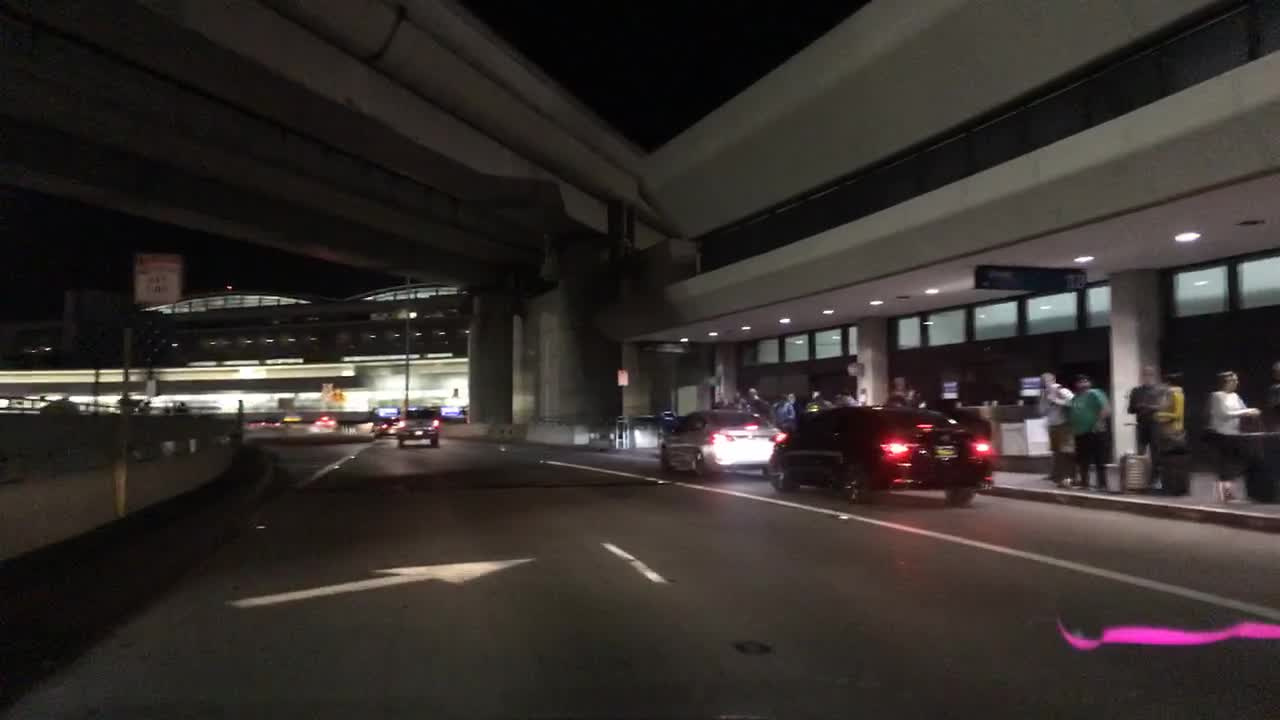car: (765, 403, 993, 504), (657, 407, 787, 477), (395, 406, 440, 447), (372, 414, 402, 439), (312, 412, 339, 429), (260, 416, 282, 429)
person: (1204, 368, 1260, 504), (1033, 370, 1081, 485), (1125, 363, 1168, 489), (1065, 374, 1111, 490), (1150, 372, 1191, 496), (886, 374, 920, 405), (771, 390, 796, 431), (1266, 359, 1278, 432), (744, 385, 769, 417), (804, 389, 832, 410), (835, 388, 856, 405)
traffic sign: (132, 253, 181, 302), (1018, 375, 1043, 396), (440, 404, 465, 419), (373, 405, 401, 417), (941, 378, 956, 398), (844, 361, 862, 376), (616, 367, 628, 386)
